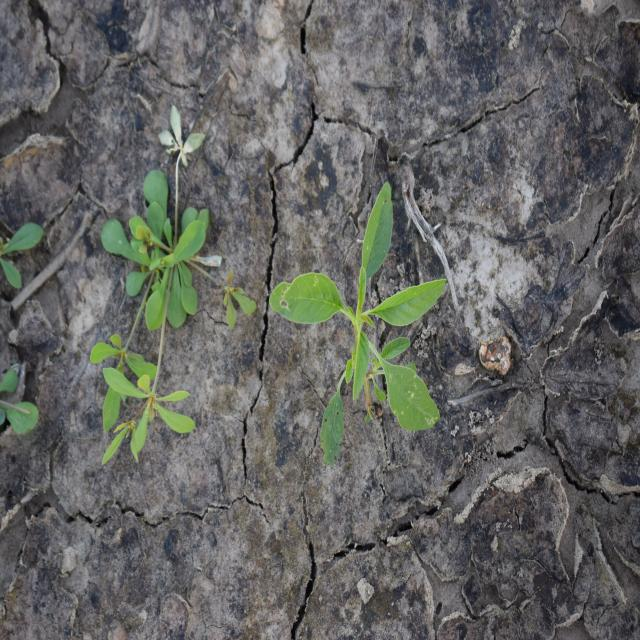Carpetweed: (89, 104, 257, 470), (1, 224, 44, 290)
Waterhemp: (267, 179, 449, 470)
